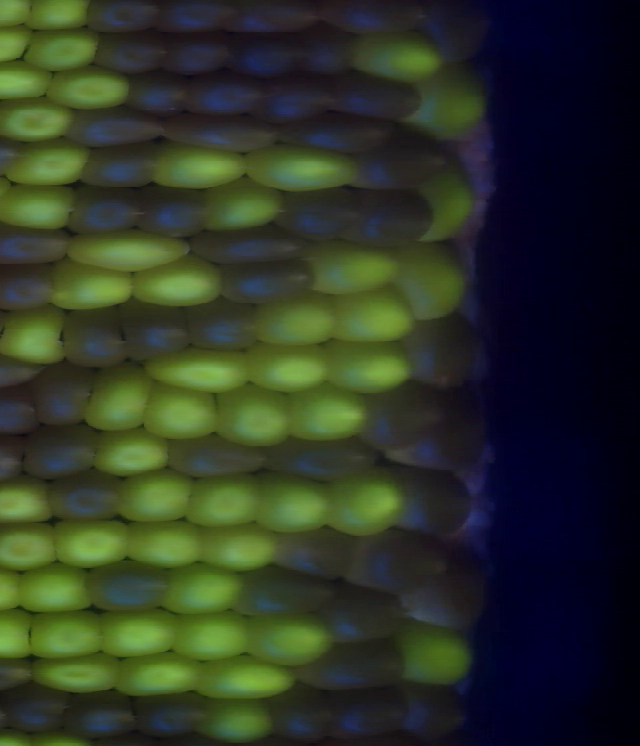fluorescent: (397, 56, 490, 140), (318, 458, 410, 542), (239, 138, 369, 197), (388, 237, 471, 325), (296, 234, 405, 299), (413, 141, 480, 246), (143, 132, 256, 194), (390, 615, 483, 689), (142, 340, 258, 399), (246, 464, 338, 538), (209, 378, 298, 454), (350, 23, 453, 88), (244, 603, 342, 671), (327, 280, 421, 350), (195, 173, 295, 237), (137, 375, 227, 446), (249, 286, 344, 352), (117, 511, 214, 575), (106, 647, 216, 703), (129, 251, 229, 312), (282, 378, 378, 441), (189, 515, 285, 578), (319, 337, 421, 396), (238, 336, 337, 396), (81, 355, 154, 436), (191, 651, 302, 704), (159, 558, 252, 621), (69, 226, 199, 271), (43, 256, 140, 316), (113, 464, 204, 527), (179, 468, 269, 530), (166, 605, 255, 667), (47, 511, 137, 572), (94, 604, 186, 663), (0, 298, 75, 370), (87, 419, 178, 478), (1, 134, 96, 190), (29, 648, 134, 698), (13, 560, 101, 618), (26, 606, 112, 663), (194, 690, 280, 746), (0, 179, 84, 235), (0, 92, 84, 146), (0, 513, 68, 578), (0, 469, 63, 531), (0, 56, 62, 108), (0, 604, 40, 667), (0, 556, 32, 621), (0, 17, 36, 72), (0, 1, 45, 35)
nonfluorescent: (385, 380, 495, 477), (400, 540, 498, 635), (291, 634, 415, 703), (340, 523, 454, 597), (340, 122, 451, 197), (355, 376, 454, 457), (340, 182, 444, 257), (403, 306, 485, 398), (389, 458, 478, 542), (231, 559, 342, 625), (263, 426, 381, 488), (310, 574, 405, 650), (162, 422, 272, 485), (184, 221, 314, 271), (382, 675, 472, 746), (209, 255, 329, 308), (265, 523, 364, 587), (60, 100, 178, 153), (321, 680, 415, 746), (271, 183, 369, 246), (158, 111, 290, 157), (112, 296, 199, 364), (55, 303, 138, 374), (257, 682, 352, 744), (280, 111, 402, 159), (81, 556, 180, 615), (416, 1, 502, 68), (18, 422, 108, 485), (59, 181, 154, 239), (173, 65, 266, 124), (249, 73, 343, 131), (183, 293, 268, 357), (25, 360, 105, 428), (125, 685, 219, 742), (54, 686, 147, 743), (130, 181, 216, 242), (75, 138, 167, 195), (219, 27, 310, 84), (41, 469, 128, 528), (310, 1, 434, 41), (330, 70, 420, 125), (0, 680, 81, 739), (0, 213, 82, 270), (89, 25, 168, 80), (218, 1, 329, 39), (119, 66, 188, 125), (149, 1, 248, 42), (159, 28, 234, 82), (290, 21, 357, 80), (0, 258, 66, 316), (77, 1, 172, 38), (0, 380, 45, 442), (0, 346, 50, 400), (0, 427, 35, 491), (0, 647, 42, 697), (0, 127, 30, 184)
